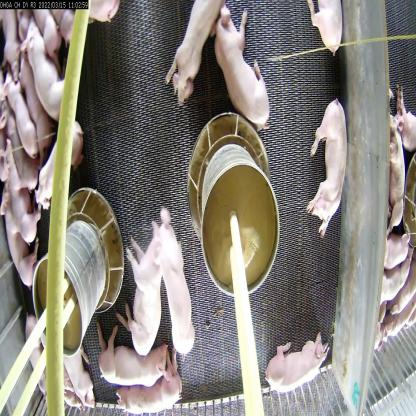Pig: (220, 5, 275, 135), (151, 227, 200, 371), (161, 0, 223, 107), (19, 21, 77, 127), (300, 94, 348, 217), (35, 101, 85, 207), (118, 248, 168, 343), (262, 327, 330, 395), (105, 356, 182, 416), (1, 59, 44, 161), (40, 332, 91, 416), (99, 333, 164, 385), (1, 196, 30, 291)
